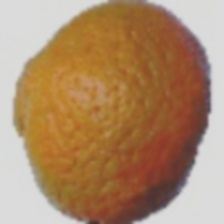tangerine: (9, 33, 186, 211)
